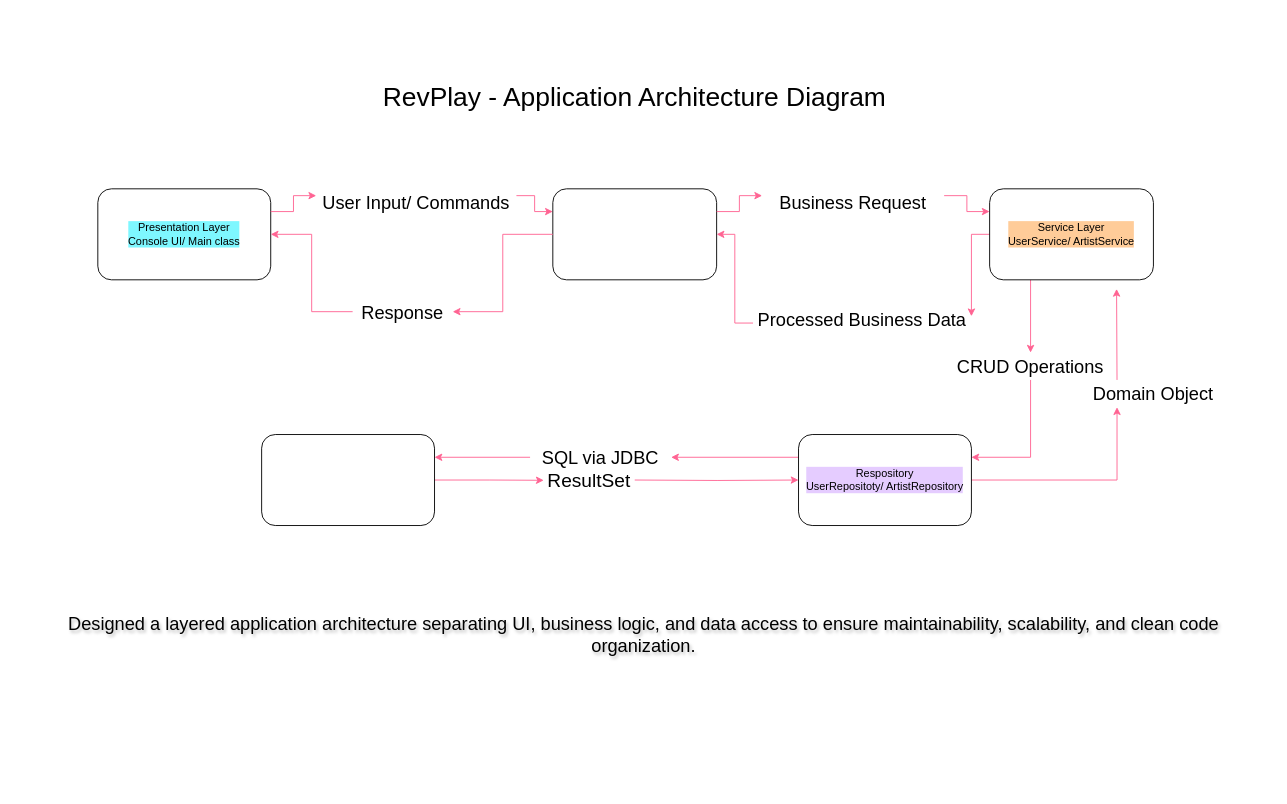
This 1287x804 diagram has some shape labels left out. The shapes that lost their labels are listed below. From the top down, each one's box as (x1, y1, x2, y2) in pixels, then its label:
(552, 188, 717, 280): Controller Layer UserController/ArtistController
(261, 434, 435, 526): Database Layer MySQL (JDBC)
